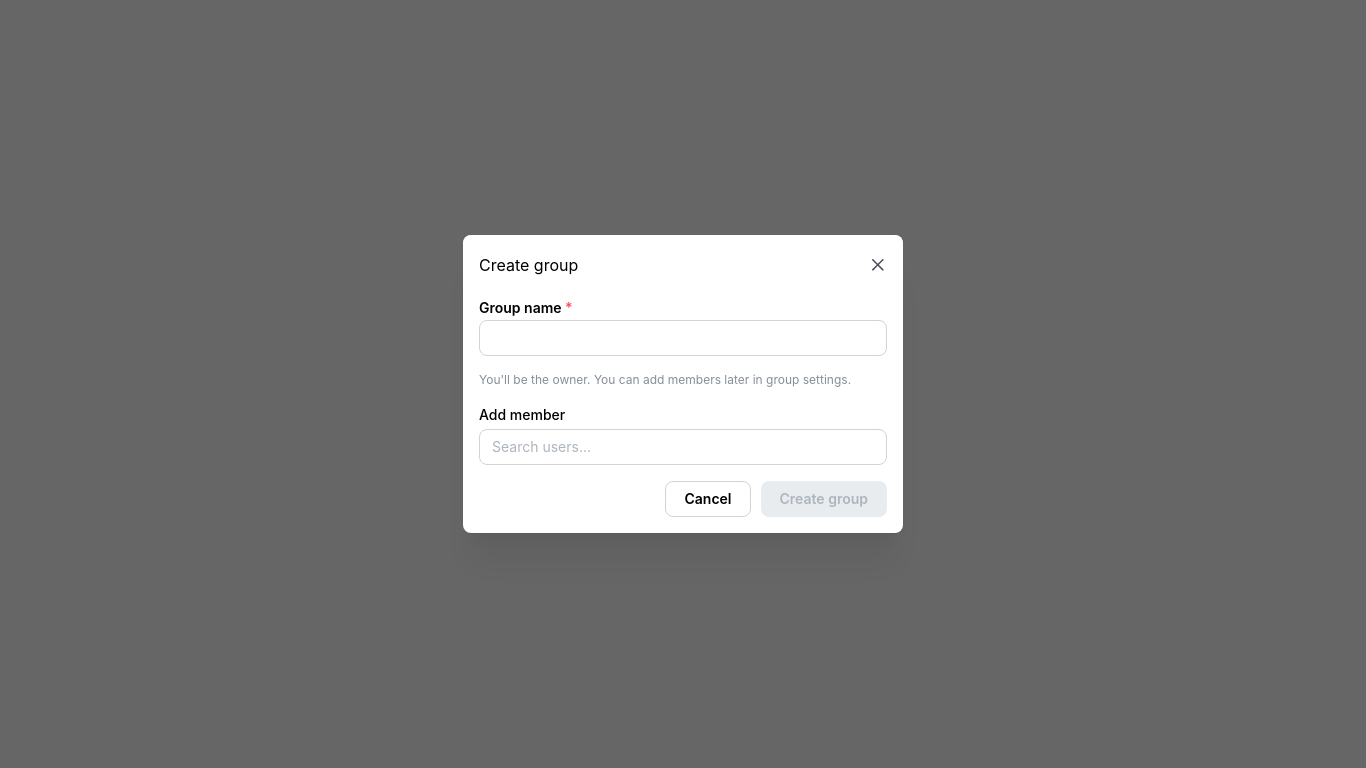
it: CreateGroupModal › shows a create failure and keeps the form
The width and height of the screenshot is (1366, 768).
In the field labelled "Group name *": (683, 338) [479,320,887,356], type "Team"
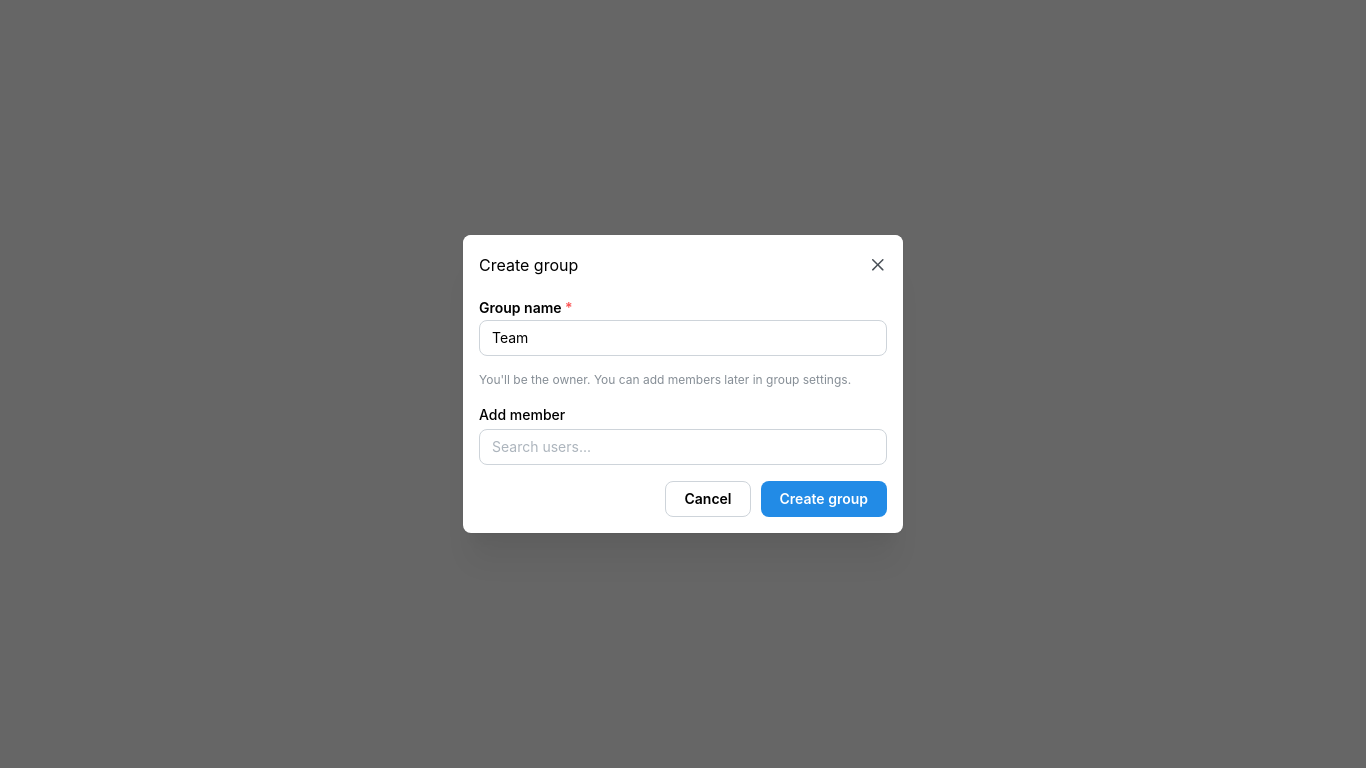
Click the button "Create group": (824, 499) [760,481,887,517]
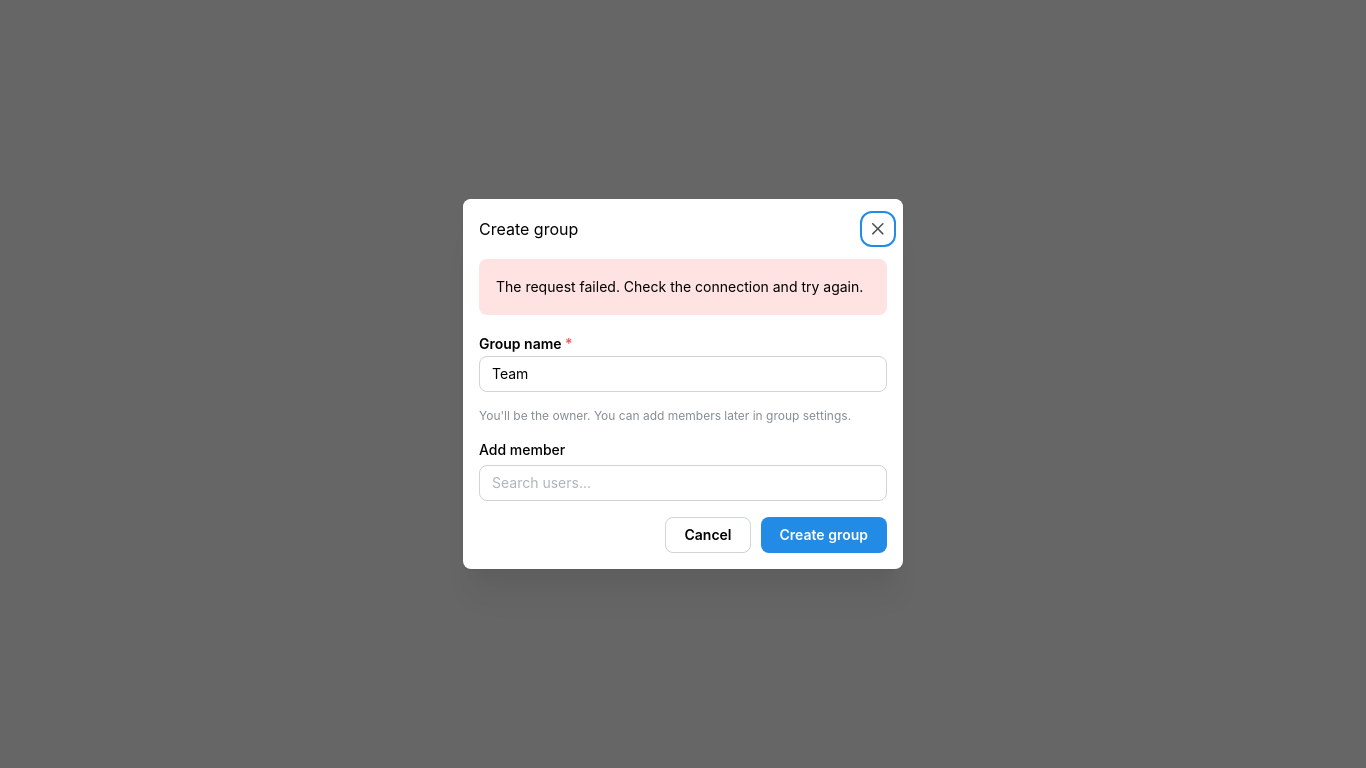
Check: the message "The request failed. Check the connection and try again." is shown, box [479,259,887,315]
